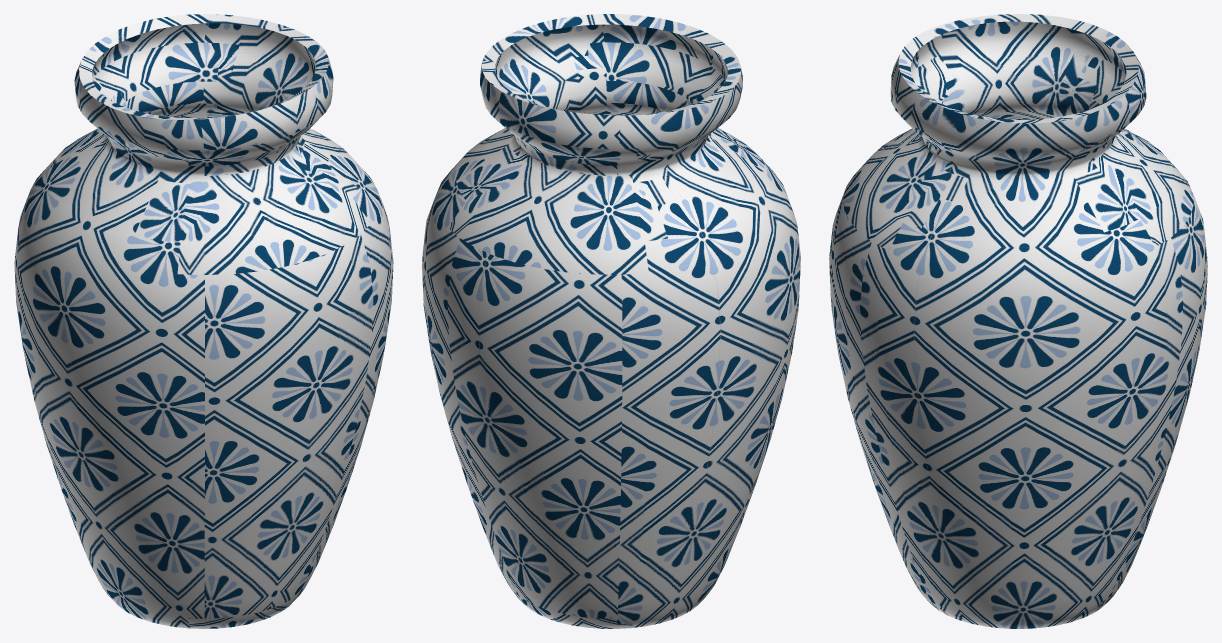
File: Vase.fbx
3 renders of one model, left to right at view 1: azimuth 30°, elevation 25°; view 2: azimuth 150°, elevation 25°; view 3: azimuth 270°, elevation 25°, orthographic.
Visible parts, largest first — view 1: Vase; view 2: Vase; view 3: Vase.
Boxes of the visible parts, bbox=[...] form: Vase: bbox=[14, 14, 393, 628]; Vase: bbox=[422, 14, 800, 628]; Vase: bbox=[829, 14, 1207, 628].
Bounding box in the file's own units: 1.44 × 2.21 × 1.44.
1 material, 1 textured.
